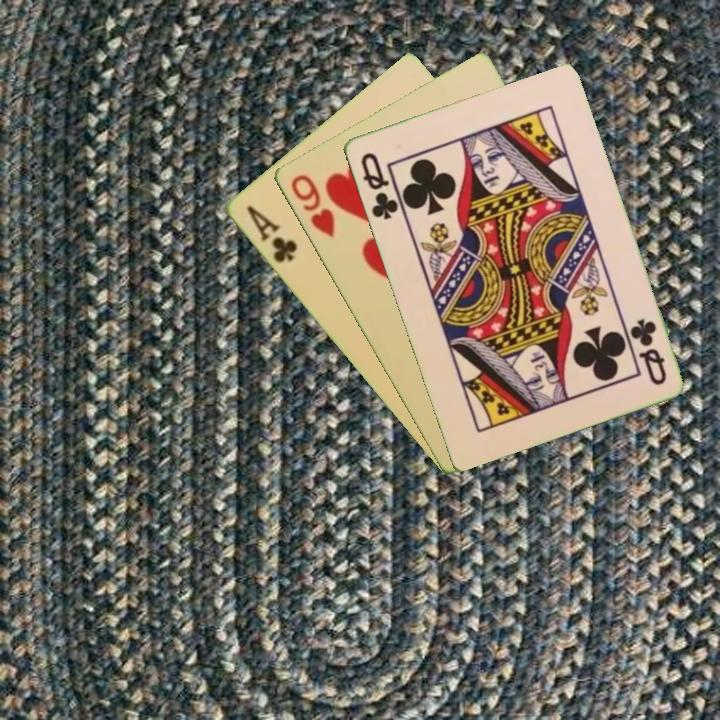9h: (286, 170, 337, 241)
Ac: (242, 201, 300, 266)
Qc: (356, 148, 401, 223), (626, 315, 669, 389)
